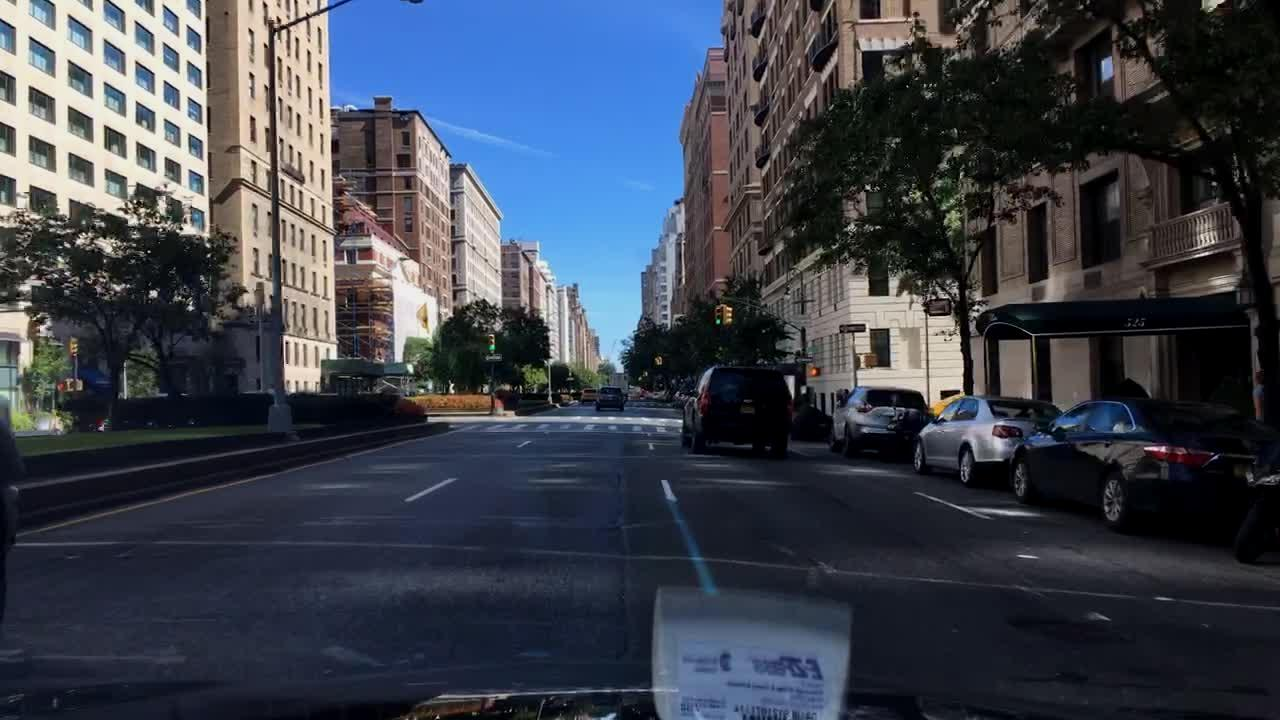chevrolet: (743, 398, 755, 405)
